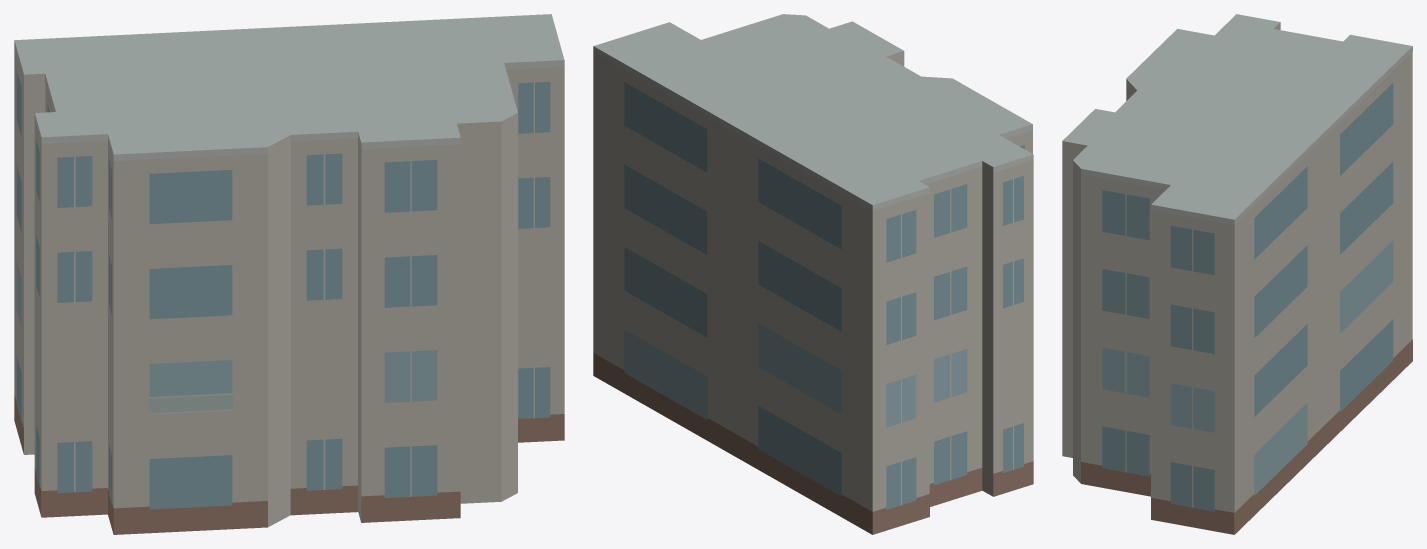
The model's file is survey-upis-33021068.glb.
3 views of the same model, side by side, from view 1: azimuth 30°, elevation 25°; view 2: azimuth 150°, elevation 25°; view 3: azimuth 270°, elevation 25° (orthographic). The views are drawn at different scales.
Visible parts, largest first — view 1: survey-upis-33021068.tmp; view 2: survey-upis-33021068.tmp; view 3: survey-upis-33021068.tmp.
Part boxes in pixels (x1,y1,x2,y2): survey-upis-33021068.tmp: (14,14,564,534); survey-upis-33021068.tmp: (593,14,1033,534); survey-upis-33021068.tmp: (1062,14,1412,534).
Bounding box in the file's own units: 19.58 × 13.98 × 14.1.
